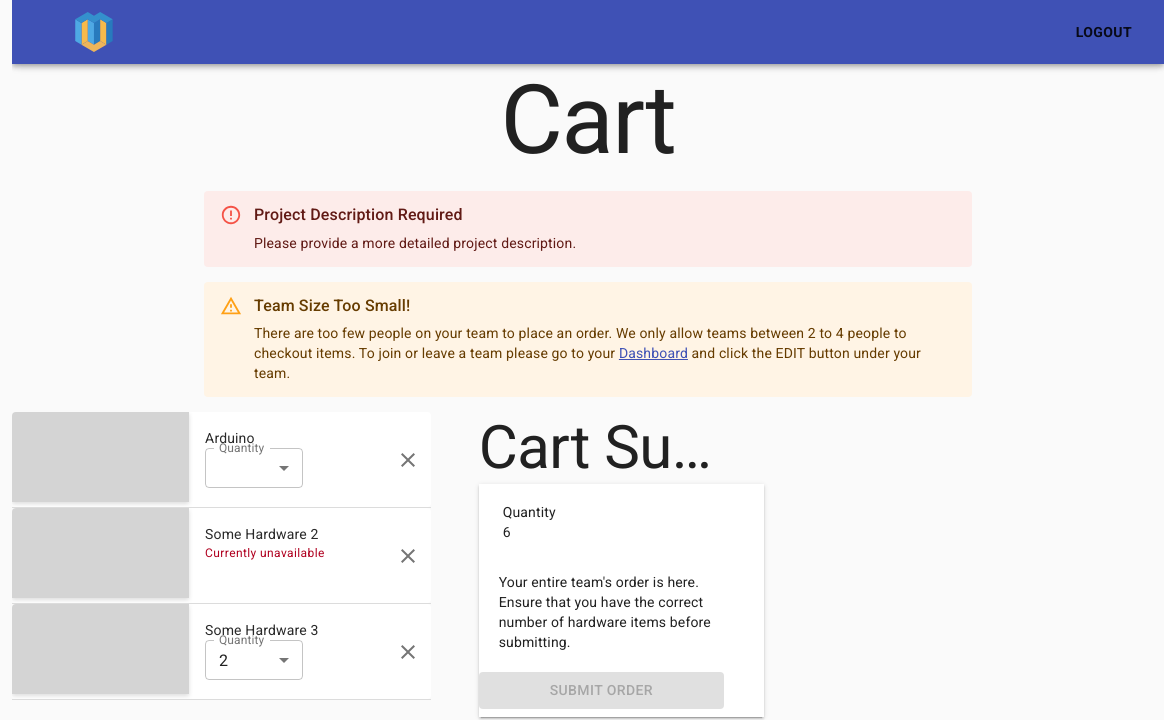
it: Cart Page › updateCart action
Press the mouse on the button without text below "Arduino" at (254, 468), box [205,448,303,488]
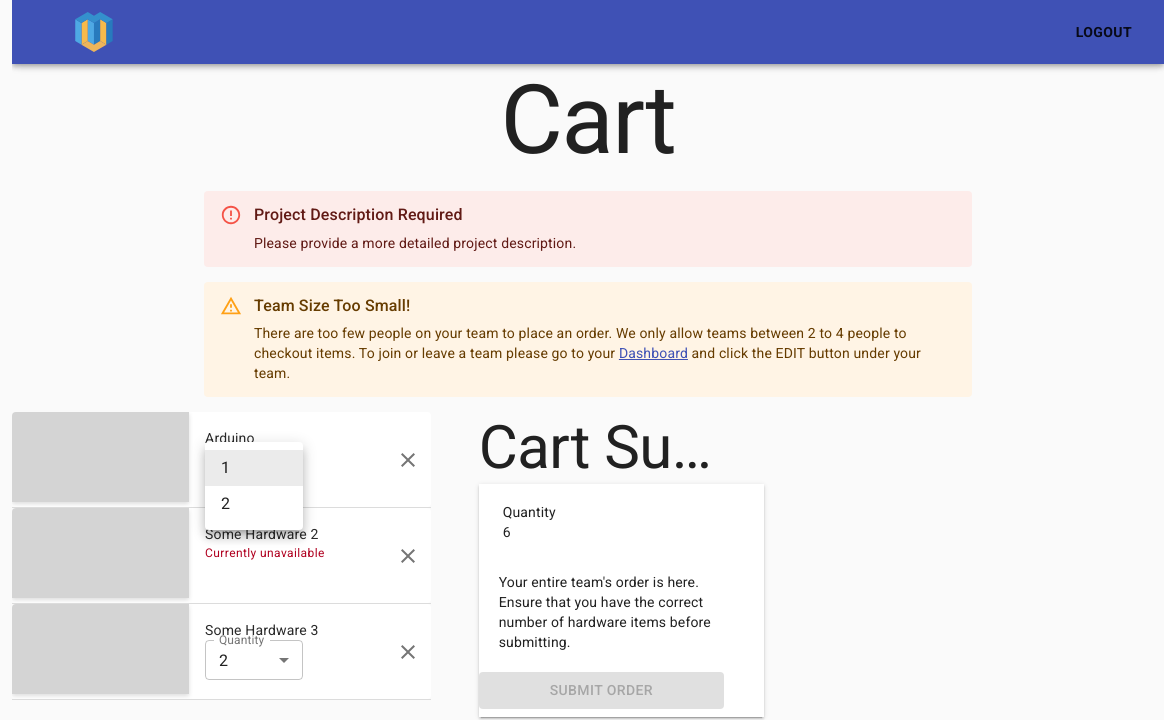
// select the quantity
Click the option "1" at (254, 468), box [205,450,303,486]
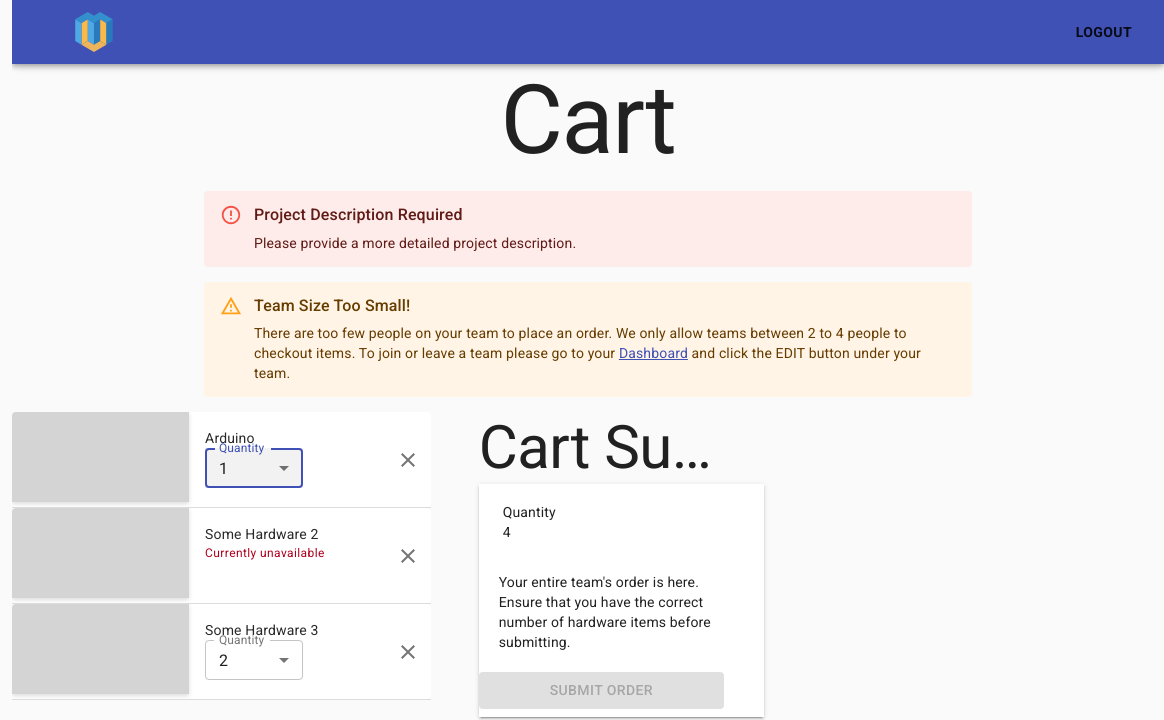
Result: the text with test id "cart-quantity-total" reads "4" at [503,524,511,540]
